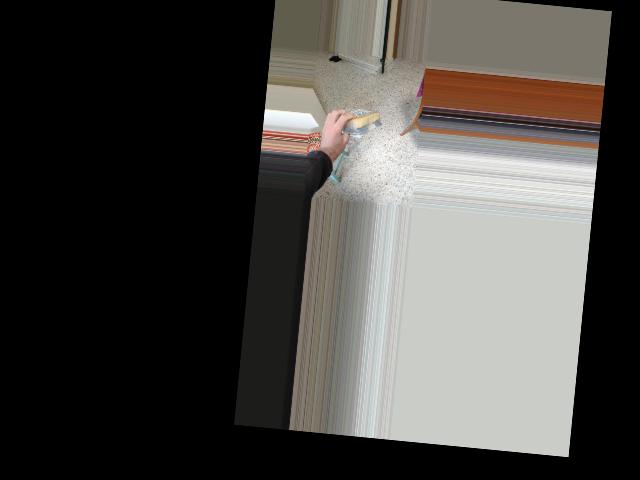cheese: (335, 106, 383, 133)
